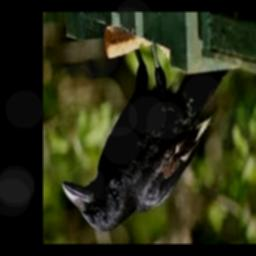Crow: (62, 39, 231, 232)
